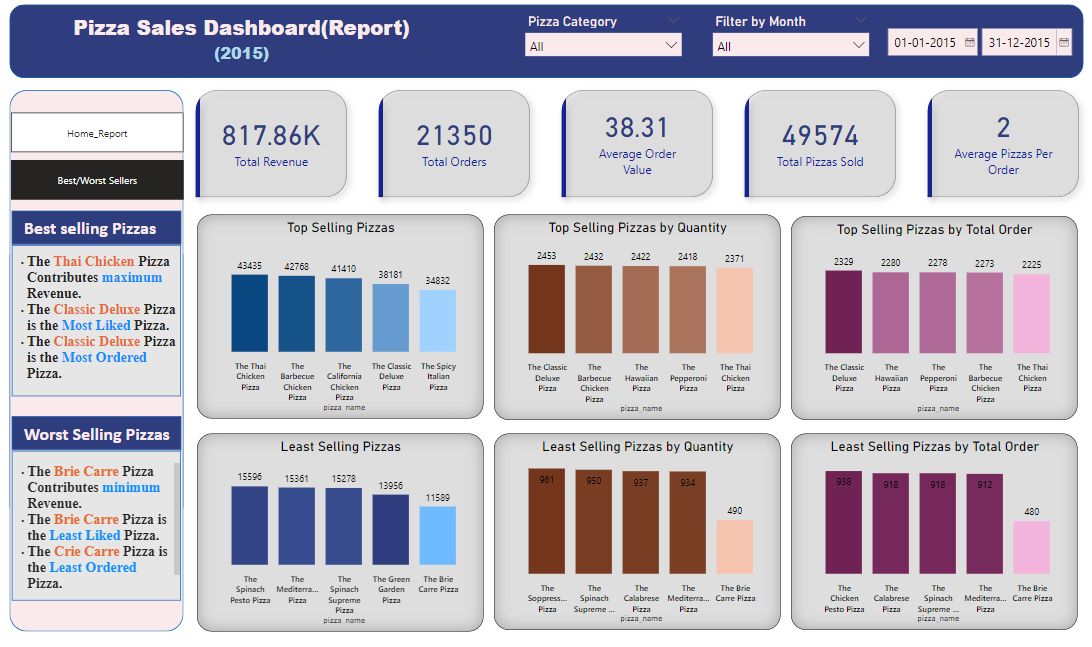

The page's visual inventory and layout, read from the dashboard file:
{"tool":"powerbi","page":{"name":"Best/Worst Sellers","canvas":[1460,867],"ordinal":1},"visuals":[{"type":"cardVisual","fields":{"Data":["pizza_sales.Total Revenue","pizza_sales.Total Orders","pizza_sales.Average Order Value","pizza_sales.Total Pizzas Sold","pizza_sales.Average Pizzas Per Order"]},"box":[245.5,103.3,1213.8,175.3],"z":0},{"type":"shape","title":"Pizza Sales Analysis/Dashboard  (2015)","box":[14,6,1432,98],"z":1000},{"type":"textbox","box":[0,11.7,646.8,91.6],"z":2000},{"type":"columnChart","title":"Top Selling Pizzas","fields":{"Category":["pizza_sales.pizza_name"],"Y":["pizza_sales.Total Revenue"]},"box":[264,286,382,272],"z":3000},{"type":"shape","box":[14,120,232,722],"z":4000},{"type":"shape","box":[14,278,232,52],"z":5000},{"type":"shape","box":[14,552.7,232,52],"z":6000},{"type":"shape","box":[14.2,324.2,231.7,207.5],"z":7000},{"type":"shape","box":[14.2,598.3,231.7,205.8],"z":8000},{"type":"slicer","fields":{"Values":["pizza_sales.pizza_category"]},"box":[691.7,11.7,228,76],"z":9000},{"type":"slicer","fields":{"Values":["pizza_sales.order_date"]},"box":[1172.9,27.3,265,52.6],"z":10000},{"type":"slicer","fields":{"Values":["pizza_sales.Order Month"]},"box":[943,11.7,228,76],"z":11000},{"type":"textbox","box":[28,557,263,41],"z":12000},{"type":"textbox","box":[28,284,263,40],"z":13000},{"type":"textbox","box":[14,332,232,228],"z":14000},{"type":"textbox","box":[14,612,232,178],"z":15000},{"type":"columnChart","title":"Top Selling Pizzas by Quantity","fields":{"Category":["pizza_sales.pizza_name"],"Y":["Sum(pizza_sales.quantity)"]},"box":[660,286,382,274],"z":16000},{"type":"columnChart","title":"Top Selling Pizzas by Total Order","fields":{"Category":["pizza_sales.pizza_name"],"Y":["pizza_sales.Total Orders"]},"box":[1056,288,382,272],"z":17000},{"type":"columnChart","title":"Least Selling Pizzas by Total Order","fields":{"Category":["pizza_sales.pizza_name"],"Y":["pizza_sales.Total Orders"]},"box":[1056,578,382,262],"z":18000},{"type":"columnChart","title":"Least Selling Pizzas by Quantity","fields":{"Category":["pizza_sales.pizza_name"],"Y":["Sum(pizza_sales.quantity)"]},"box":[660,578,382,262],"z":19000},{"type":"columnChart","title":"Least Selling Pizzas","fields":{"Category":["pizza_sales.pizza_name"],"Y":["pizza_sales.Total Revenue"]},"box":[264,578,382,264],"z":20000},{"type":"shape","box":[210.8,222.5,26.7,36.7],"z":23000},{"type":"pageNavigator","box":[15.8,150.8,230,117.5],"z":23001}]}

Visuals, with their boxes in screenshot pixels (x1, y1, x2, y2), scaled from the page's 1460x867 canvas onto the 1092x647 screenshot:
cardVisual - pizza_sales.Total Revenue x pizza_sales.Total Orders: x1=184 y1=77 x2=1091 y2=208
"Pizza Sales Analysis/Dashboard  (2015)" shape: x1=10 y1=4 x2=1082 y2=78
textbox: x1=0 y1=9 x2=484 y2=77
"Top Selling Pizzas" columnChart: x1=197 y1=213 x2=483 y2=416
shape: x1=10 y1=90 x2=184 y2=628
shape: x1=10 y1=207 x2=184 y2=246
shape: x1=10 y1=412 x2=184 y2=451
shape: x1=11 y1=242 x2=184 y2=397
shape: x1=11 y1=446 x2=184 y2=600
slicer - pizza_sales.pizza_category: x1=517 y1=9 x2=688 y2=65
slicer - pizza_sales.order_date: x1=877 y1=20 x2=1075 y2=60
slicer - pizza_sales.Order Month: x1=705 y1=9 x2=876 y2=65
textbox: x1=21 y1=416 x2=218 y2=446
textbox: x1=21 y1=212 x2=218 y2=242
textbox: x1=10 y1=248 x2=184 y2=418
textbox: x1=10 y1=457 x2=184 y2=590
"Top Selling Pizzas by Quantity" columnChart: x1=494 y1=213 x2=779 y2=418
"Top Selling Pizzas by Total Order" columnChart: x1=790 y1=215 x2=1076 y2=418
"Least Selling Pizzas by Total Order" columnChart: x1=790 y1=431 x2=1076 y2=627
"Least Selling Pizzas by Quantity" columnChart: x1=494 y1=431 x2=779 y2=627
"Least Selling Pizzas" columnChart: x1=197 y1=431 x2=483 y2=628
shape: x1=158 y1=166 x2=178 y2=193
pageNavigator: x1=12 y1=113 x2=184 y2=200
